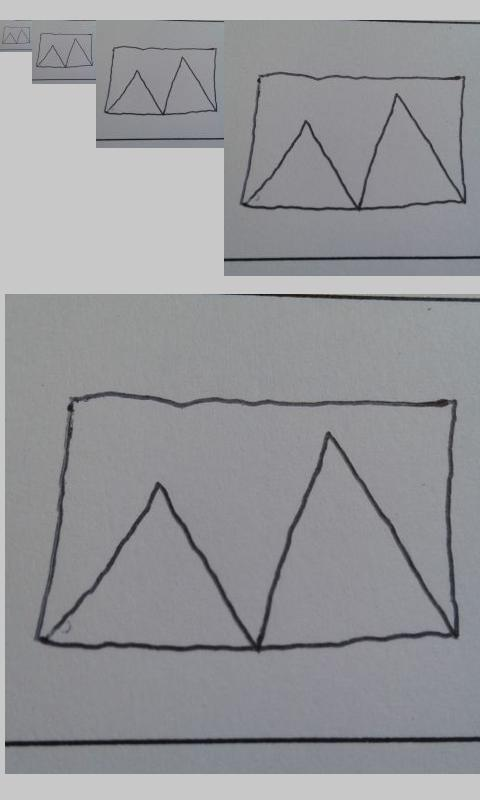image_view: (30, 387, 458, 661), (241, 70, 468, 213), (104, 45, 221, 117), (35, 32, 93, 69), (1, 25, 31, 45)
